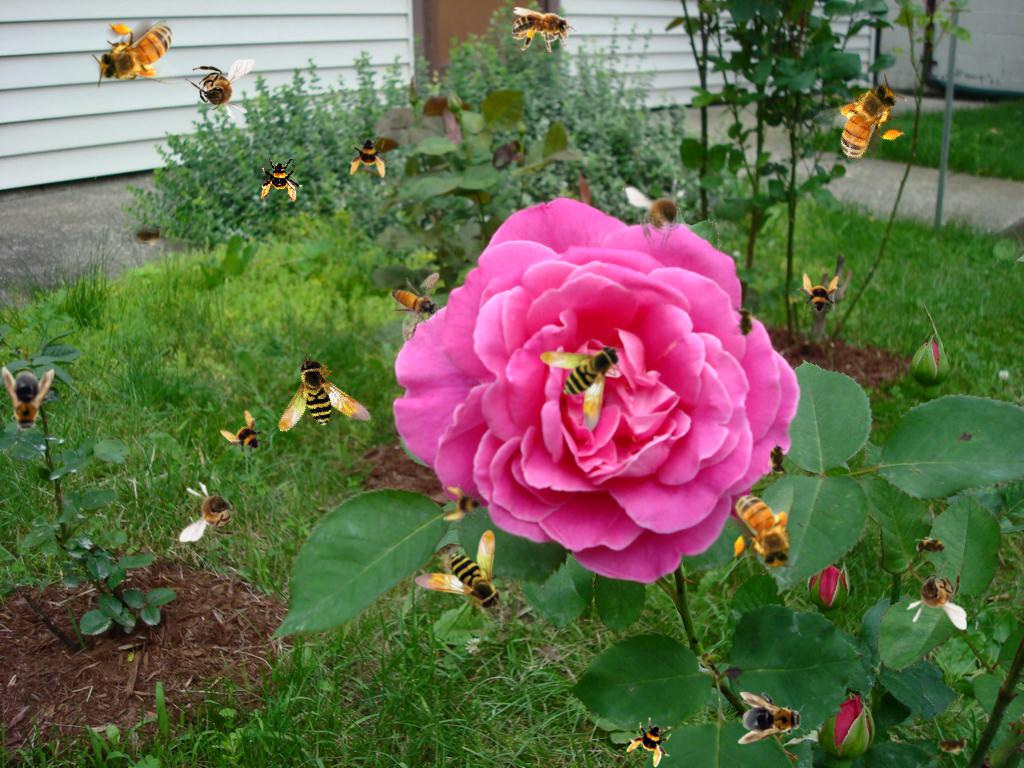Bee: (269, 351, 385, 465), (807, 69, 923, 174), (373, 259, 461, 344), (540, 344, 622, 432), (414, 530, 502, 612), (622, 168, 703, 254), (92, 20, 185, 88), (730, 482, 798, 575), (906, 560, 967, 630), (179, 481, 249, 542), (185, 59, 255, 120), (213, 405, 277, 469), (738, 692, 806, 744), (2, 367, 54, 435), (622, 712, 682, 768), (512, 7, 578, 52), (443, 484, 487, 528), (259, 158, 303, 202), (796, 273, 840, 317), (348, 134, 392, 178), (910, 534, 952, 560), (932, 733, 972, 755), (767, 439, 789, 479), (128, 224, 168, 246), (734, 303, 756, 343)
